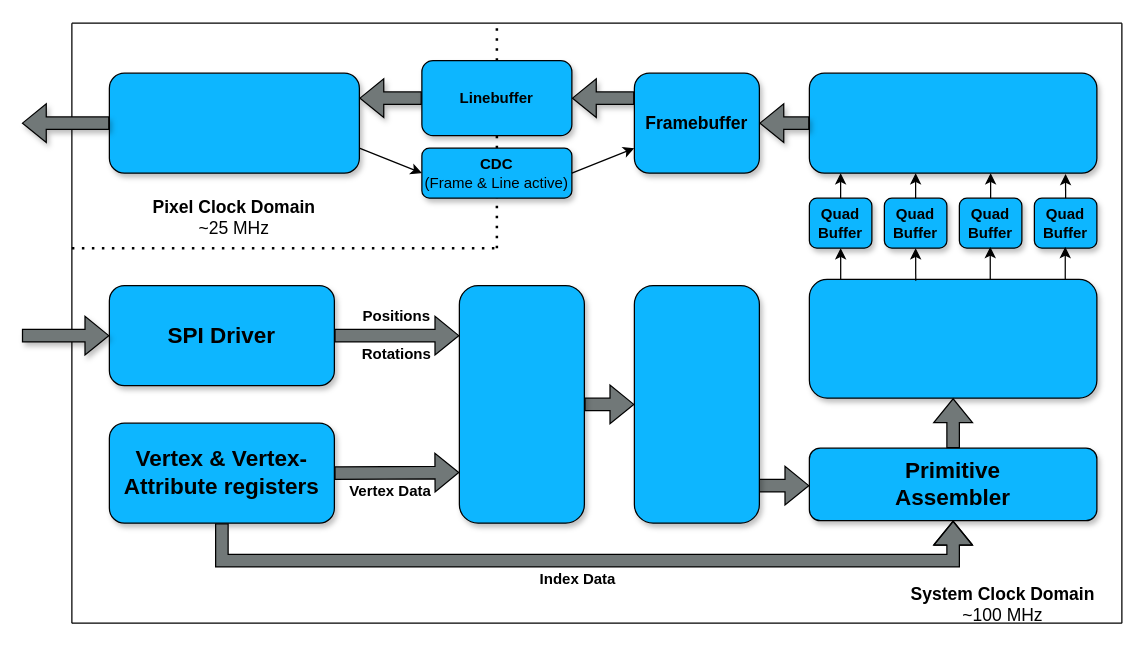
Some shapes in this 1145 by 646 pixel diagram are drawn without their labels. Here are the shapes that lost their labels. From the top down, the centre of each, then its label:
the point at 235,124: VGA Driver
the point at 953,124: Quad to Framebuffer Combiner
the point at 953,340: Rasterizer + Fragment Shader
the point at 522,405: Vertex Shader Unit
the point at 697,405: Vertex Post Process.
